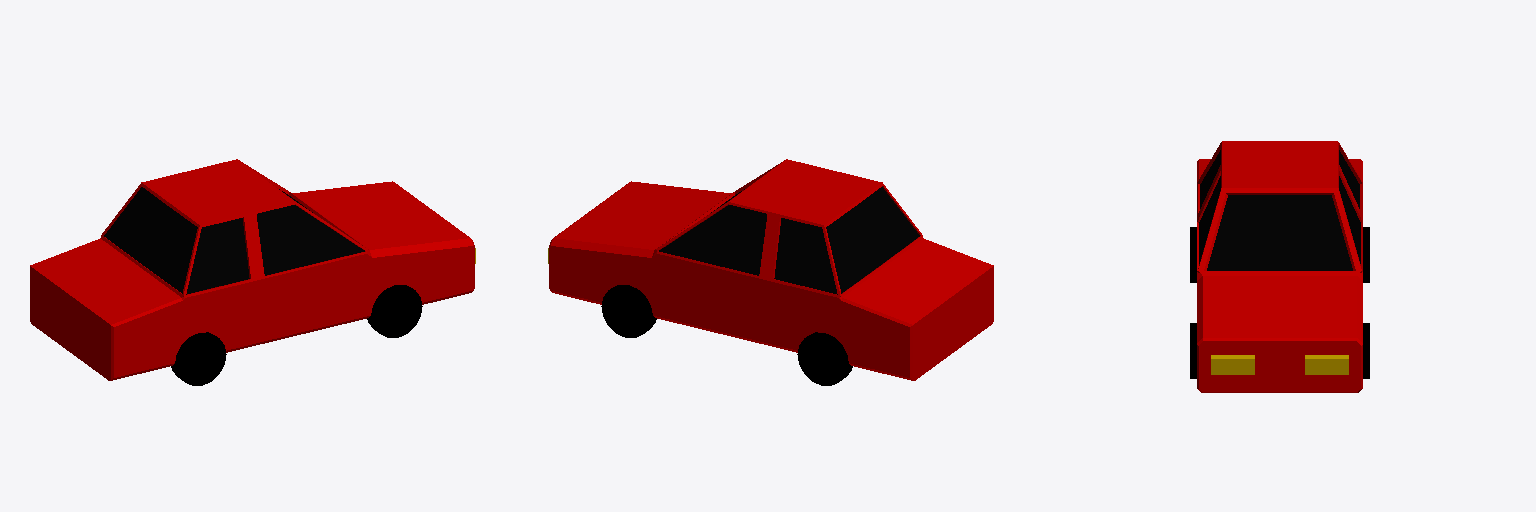
File: Car3d.obj
3 views of the same model, side by side, from view 1: azimuth 30°, elevation 25°; view 2: azimuth 150°, elevation 25°; view 3: azimuth 270°, elevation 25° (orthographic).
Parts seen in each view (by area): view 1: Cube, Cylinder_Cylinder.002; view 2: Cube, Cylinder_Cylinder.002; view 3: Cube, Cube.001, Cylinder_Cylinder.002.
Boxes of the visible parts, <box> form: Cube: <box>30,159,474,380</box>; Cylinder_Cylinder.002: <box>171,285,422,385</box>; Cube: <box>549,159,993,380</box>; Cylinder_Cylinder.002: <box>601,285,852,385</box>; Cube: <box>1197,141,1362,392</box>; Cube.001: <box>1211,355,1348,374</box>; Cylinder_Cylinder.002: <box>1190,227,1369,378</box>.
Bounding box in the file's own units: 9.25 × 3.47 × 3.87.